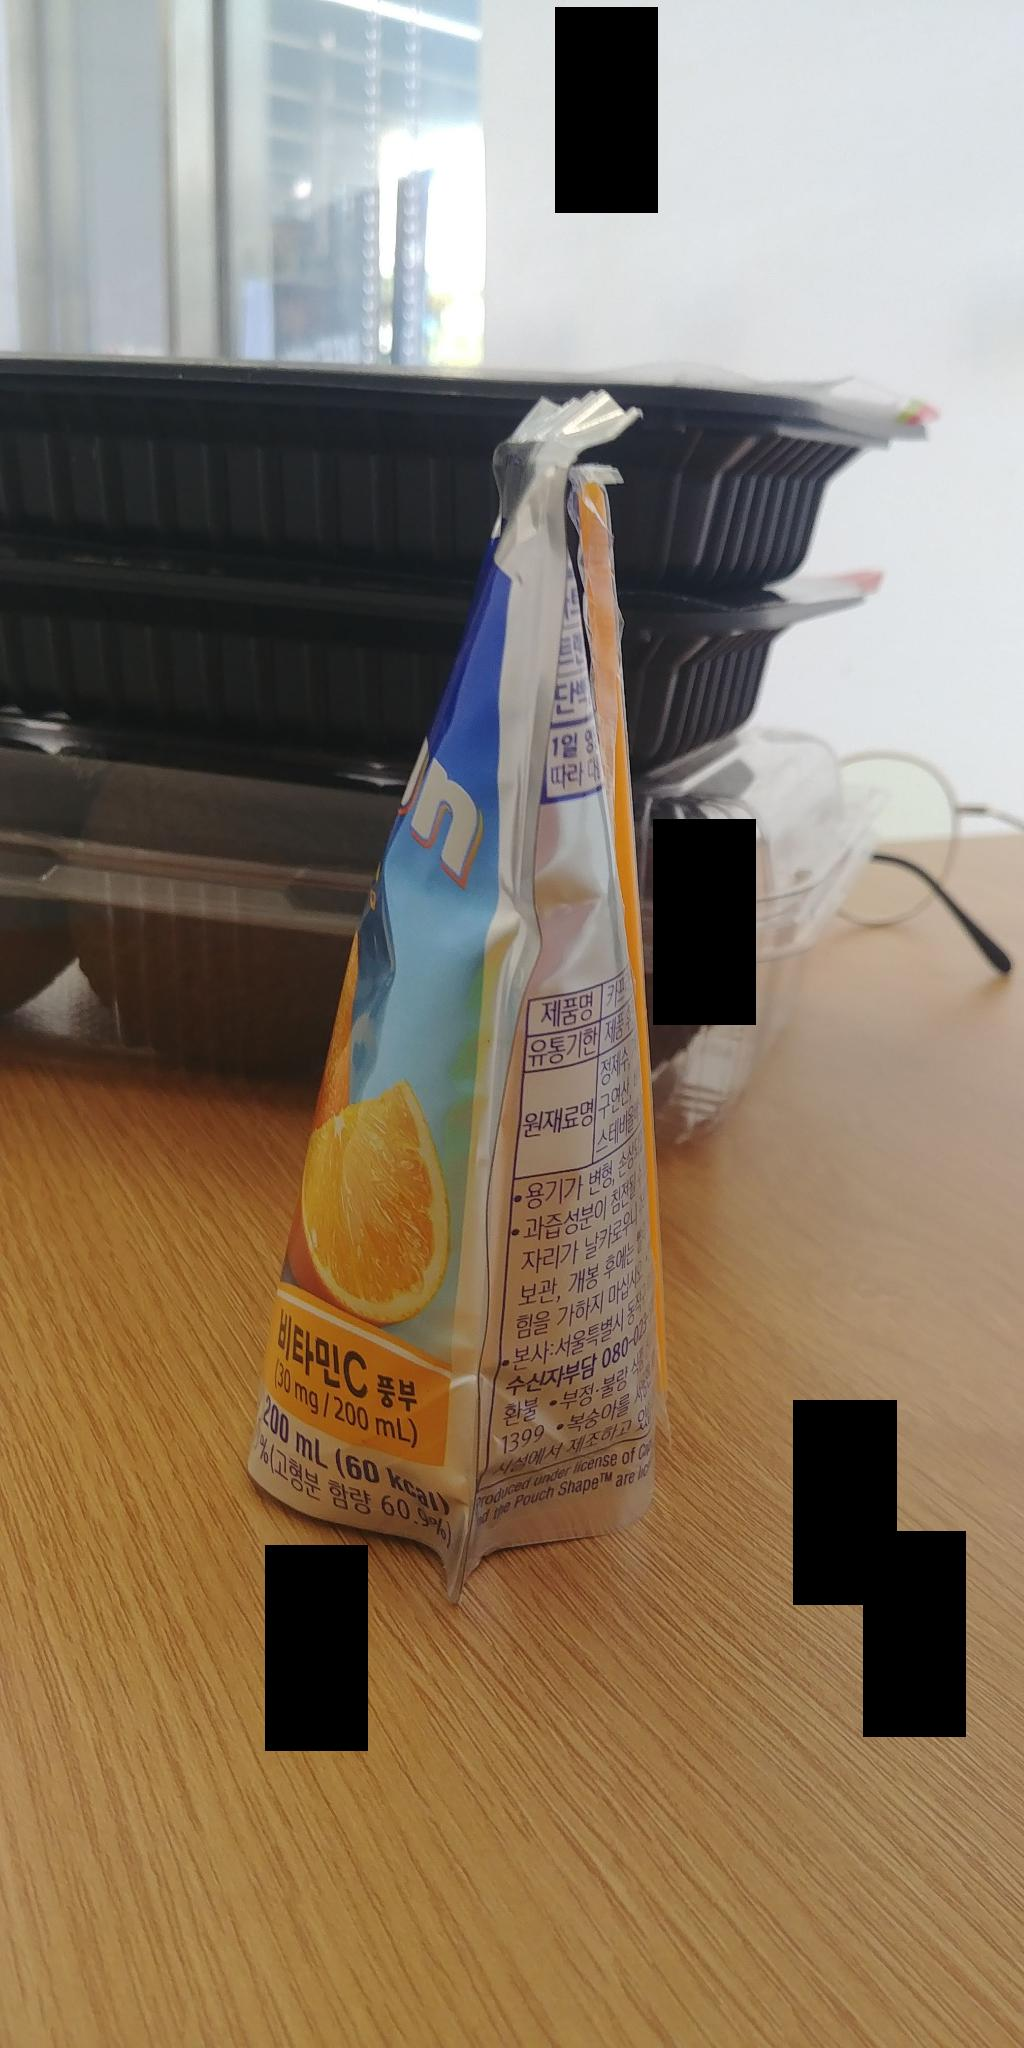cafrisun: (206, 379, 735, 1601)
